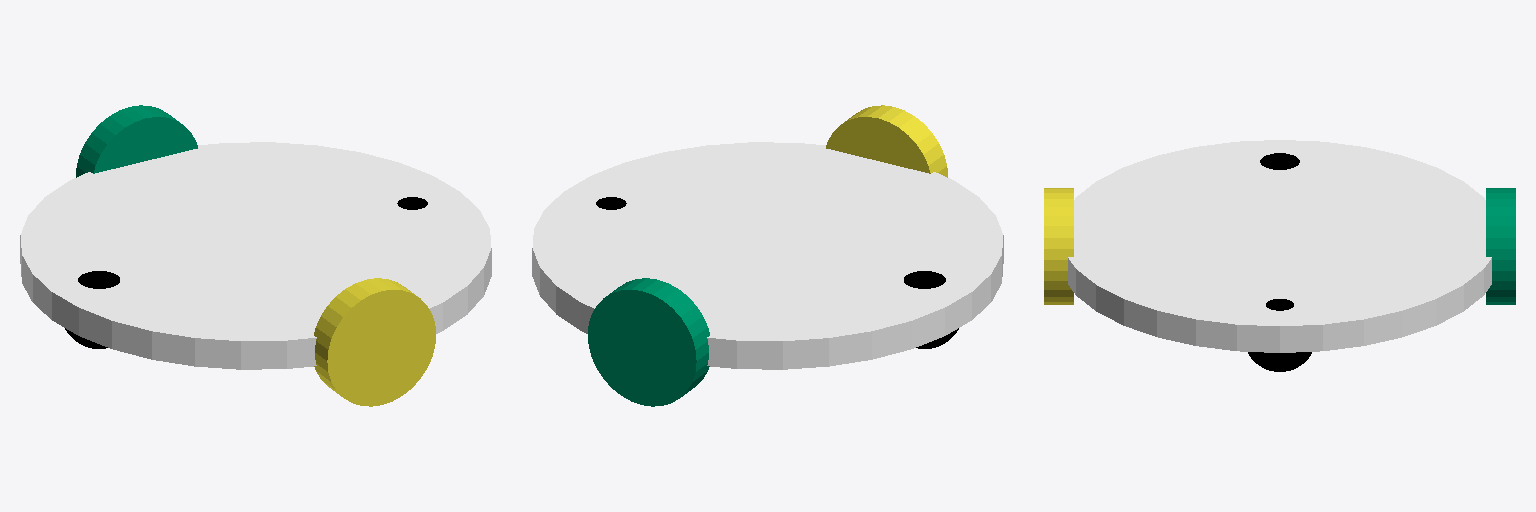
robot.urdf — differential_wheeled_robot:
<?xml version="1.0" ?>
<!-- =================================================================================== -->
<!-- |    This document was autogenerated by xacro from diff_wheeled_robot.xacro       | -->
<!-- |    EDITING THIS FILE BY HAND IS NOT RECOMMENDED                                 | -->
<!-- =================================================================================== -->
<robot name="differential_wheeled_robot" xmlns:xacro="http://www.ros.org/wiki/xacro">
  <!-- Wheels -->
  <!-- in kg-->
  <!-- Defining the colors used in this robot -->
  <material name="Black">
    <color rgba="0.0 0.0 0.0 1.0"/>
  </material>
  <material name="Red">
    <color rgba="0.8 0.0 0.0 1.0"/>
  </material>
  <material name="White">
    <color rgba="1.0 1.0 1.0 1.0"/>
  </material>
  <material name="Blue">
    <color rgba="0.0 0.0 0.8 1.0"/>
  </material>
  <!-- PROPERTY LIST -->
  <!--All units in m-kg-s-radians unit system -->
  <!-- Main body radius and height -->
  <!-- Main Body Cylinder base   -->
  <!-- in kg-->
  <!-- caster wheel radius and height -->
  <!-- caster wheel mass -->
  <!-- in kg-->
  <!-- caster wheel radius and height -->
  <!-- caster wheel mass -->
  <!-- in kg-->
  <!-- Wheels -->
   --&gt; 
  <!-- in kg-->
  <!-- Hokuyo Laser scanner -->
  <!-- Macro for calculating inertia of cylinder -->
  <!-- BASE-FOOTPRINT -->
  <!-- base_footprint is a fictitious link(frame) that is on the ground right below base_link origin -->
  <link name="base_footprint">
    <inertial>
      <mass value="0.0001"/>
      <origin xyz="0 0 0"/>
      <inertia ixx="0.0001" ixy="0.0" ixz="0.0" iyy="0.0001" iyz="0.0" izz="0.0001"/>
    </inertial>
    <visual>
      <origin rpy="0 0 0" xyz="0 0 0"/>
      <geometry>
        <box size="0.001 0.001 0.001"/>
      </geometry>
    </visual>
  </link>
  <gazebo reference="base_footprint">
    <turnGravityOff>false</turnGravityOff>
  </gazebo>
  <joint name="base_footprint_joint" type="fixed">
    <origin rpy="0 0 0" xyz="0 0 0.04"/>
    <parent link="base_footprint"/>
    <child link="base_link"/>
  </joint>
  <!-- BASE-LINK -->
  <!--Actual body/chassis of the robot-->
  <link name="base_link">
    <inertial>
      <mass value="5"/>
      <origin xyz="0 0 0"/>
      <!--The 3x3 rotational inertia matrix. -->
      <inertia ixx="0.0282916666667" ixy="0" ixz="0" iyy="0.0282916666667" iyz="0" izz="0.05625"/>
    </inertial>
    <visual>
      <origin rpy="0 0 0" xyz="0 0 0"/>
      <geometry>
        <cylinder length="0.02" radius="0.15"/>
      </geometry>
      <material name="White"/>
    </visual>
    <collision>
      <origin rpy="0 0 0 " xyz="0 0 0"/>
      <geometry>
        <cylinder length="0.02" radius="0.15"/>
      </geometry>
    </collision>
  </link>
  <gazebo reference="base_link">
    <material>Gazebo/White</material>
    <turnGravityOff>false</turnGravityOff>
  </gazebo>
  <!--fb : front, back ; lr: left, right -->
  <link name="front_right_wheel">
    <visual>
      <origin rpy="1.57079632679 0  0 " xyz="0 0 0"/>
      <geometry>
        <cylinder length="0.02" radius="0.04"/>
      </geometry>
      <material name="DarkGray"/>
    </visual>
    <collision>
      <origin rpy="1.57079632679 0 0 " xyz="0 0 0"/>
      <geometry>
        <cylinder length="0.02" radius="0.04"/>
      </geometry>
    </collision>
    <inertial>
      <mass value="2.5"/>
      <origin xyz="0 0 0"/>
      <inertia ixx="0.00108333333333" ixy="0" ixz="0" iyy="0.00108333333333" iyz="0" izz="0.002"/>
    </inertial>
  </link>
  <gazebo reference="front_right_wheel">
    <mu1 value="1.0"/>
    <mu2 value="1.0"/>
    <kp value="10000000.0"/>
    <kd value="1.0"/>
    <fdir1 value="1 0 0"/>
    <material>Gazebo/Grey</material>
    <turnGravityOff>false</turnGravityOff>
  </gazebo>
  <joint name="front_right_wheel_joint" type="continuous">
    <parent link="base_link"/>
    <child link="front_right_wheel"/>
    <origin rpy="0 0 0" xyz="0.0 0.15 0.0"/>
    <axis rpy="0  0" xyz="0 1 0"/>
    <limit effort="100" velocity="100"/>
    <joint_properties damping="0.0" friction="0.0"/>
  </joint>
  <!-- Transmission is important to link the joints and the controller -->
  <transmission name="front_right_wheel_joint_trans">
    <type>transmission_interface/SimpleTransmission</type>
    <joint name="front_right_wheel_joint"/>
    <actuator name="front_right_wheel_joint_motor">
      <hardwareInterface>EffortJointInterface</hardwareInterface>
      <mechanicalReduction>1</mechanicalReduction>
    </actuator>
  </transmission>
  <!--fb : front, back ; lr: left, right -->
  <link name="front_left_wheel">
    <visual>
      <origin rpy="1.57079632679 0  0 " xyz="0 0 0"/>
      <geometry>
        <cylinder length="0.02" radius="0.04"/>
      </geometry>
      <material name="DarkGray"/>
    </visual>
    <collision>
      <origin rpy="1.57079632679 0 0 " xyz="0 0 0"/>
      <geometry>
        <cylinder length="0.02" radius="0.04"/>
      </geometry>
    </collision>
    <inertial>
      <mass value="2.5"/>
      <origin xyz="0 0 0"/>
      <inertia ixx="0.00108333333333" ixy="0" ixz="0" iyy="0.00108333333333" iyz="0" izz="0.002"/>
    </inertial>
  </link>
  <gazebo reference="front_left_wheel">
    <mu1 value="1.0"/>
    <mu2 value="1.0"/>
    <kp value="10000000.0"/>
    <kd value="1.0"/>
    <fdir1 value="1 0 0"/>
    <material>Gazebo/Grey</material>
    <turnGravityOff>false</turnGravityOff>
  </gazebo>
  <joint name="front_left_wheel_joint" type="continuous">
    <parent link="base_link"/>
    <child link="front_left_wheel"/>
    <origin rpy="0 0 0" xyz="0.0 -0.15 0.0"/>
    <axis rpy="0  0" xyz="0 1 0"/>
    <limit effort="100" velocity="100"/>
    <joint_properties damping="0.0" friction="0.0"/>
  </joint>
  <!-- Transmission is important to link the joints and the controller -->
  <transmission name="front_left_wheel_joint_trans">
    <type>transmission_interface/SimpleTransmission</type>
    <joint name="front_left_wheel_joint"/>
    <actuator name="front_left_wheel_joint_motor">
      <hardwareInterface>EffortJointInterface</hardwareInterface>
      <mechanicalReduction>1</mechanicalReduction>
    </actuator>
  </transmission>
  <!--Caster front  -->
  <link name="caster_front_link">
    <visual>
      <origin rpy="1.57079632679 0 0" xyz="0 0.02 0"/>
      <geometry>
        <sphere radius="0.025"/>
      </geometry>
      <material name="Black"/>
    </visual>
    <collision>
      <geometry>
        <sphere radius="0.025"/>
      </geometry>
      <origin rpy="1.57079632679 0 0" xyz="0 0.02 0"/>
    </collision>
    <inertial>
      <mass value="0.5"/>
      <origin xyz="0 0 0"/>
      <inertia ixx="0.001" ixy="0.0" ixz="0.0" iyy="0.001" iyz="0.0" izz="0.001"/>
    </inertial>
  </link>
  <joint name="caster_front_joint" type="fixed">
    <parent link="base_link"/>
    <child link="caster_front_link"/>
    <origin rpy="-1.57079632679 0 0" xyz="0.115 0.0 0.007"/>
  </joint>
  <gazebo reference="caster_front_link">
    <turnGravityOff>false</turnGravityOff>
  </gazebo>
  <!--Caster back  -->
  <link name="caster_back_link">
    <visual>
      <origin rpy="1.57079632679 0 0" xyz="0.02 0.02 0 "/>
      <geometry>
        <sphere radius="0.025"/>
      </geometry>
      <material name="Black"/>
    </visual>
    <collision>
      <geometry>
        <sphere radius="0.025"/>
      </geometry>
      <origin rpy="1.57079632679 0 0" xyz="0 0.02 0 "/>
    </collision>
    <inertial>
      <mass value="0.5"/>
      <origin xyz="0 0 0"/>
      <inertia ixx="0.001" ixy="0.0" ixz="0.0" iyy="0.001" iyz="0.0" izz="0.001"/>
    </inertial>
  </link>
  <joint name="caster_back_joint" type="fixed">
    <parent link="base_link"/>
    <child link="caster_back_link"/>
    <origin rpy="-1.57079632679 0 0" xyz="-0.135 0.0 0.009"/>
  </joint>
  <gazebo reference="caster_back_link">
    <turnGravityOff>false</turnGravityOff>
  </gazebo>
  <!-- SENSORS -->
  <!-- Differential drive controller  -->
  <gazebo>
    <plugin filename="libgazebo_ros_diff_drive.so" name="differential_drive_controller_front">
      <rosDebugLevel>Debug</rosDebugLevel>
      <publishWheelTF>True</publishWheelTF>
      <publishTf>1</publishTf>
      <publishWheelJointState>true</publishWheelJointState>
      <alwaysOn>true</alwaysOn>
      <updateRate>100.0</updateRate>
      <leftJoint>front_left_wheel_joint</leftJoint>
      <rightJoint>front_right_wheel_joint</rightJoint>
      <wheelSeparation>0.3</wheelSeparation>
      <wheelDiameter>0.08</wheelDiameter>
      <broadcastTF>1</broadcastTF>
      <wheelTorque>30</wheelTorque>
      <wheelAcceleration>1.8</wheelAcceleration>
      <commandTopic>cmd_vel</commandTopic>
      <odometryFrame>odom</odometryFrame>
      <odometryTopic>odom</odometryTopic>
      <robotBaseFrame>base_link</robotBaseFrame>
    </plugin>
  </gazebo>
</robot>

--- What the picture shows (computed from the rendered views, not written in the file) ---
3 views of the same robot in one strip: view 1: azimuth 30°, elevation 25°; view 2: azimuth 150°, elevation 25°; view 3: azimuth 270°, elevation 25° (orthographic).
Robot: differential_wheeled_robot — 6 links, 5 joints (2 continuous, 3 fixed); root link base_footprint; default pose: every joint at zero.
Visible links, largest first — view 1: base_link, front_left_wheel, front_right_wheel, caster_back_link; view 2: base_link, front_right_wheel, front_left_wheel, caster_back_link; view 3: base_link, front_right_wheel, front_left_wheel, caster_front_link, caster_back_link.
Link boxes in pixels (box(x1,y1,x2,y2)): base_link: box(20, 142, 491, 369); front_left_wheel: box(314, 278, 435, 406); front_right_wheel: box(76, 105, 197, 177); caster_back_link: box(65, 271, 119, 348); base_link: box(532, 142, 1003, 369); front_right_wheel: box(588, 278, 709, 406); front_left_wheel: box(826, 105, 947, 177); caster_back_link: box(904, 271, 958, 348); base_link: box(1068, 140, 1491, 352); front_right_wheel: box(1486, 188, 1515, 304); front_left_wheel: box(1044, 188, 1073, 304); caster_front_link: box(1248, 299, 1311, 371); caster_back_link: box(1260, 153, 1299, 169).
Bounding box of the posed robot: 0.3 × 0.32 × 0.0805 m (x, y, z).
Geometry: primitives only (box / cylinder / sphere), no mesh files.